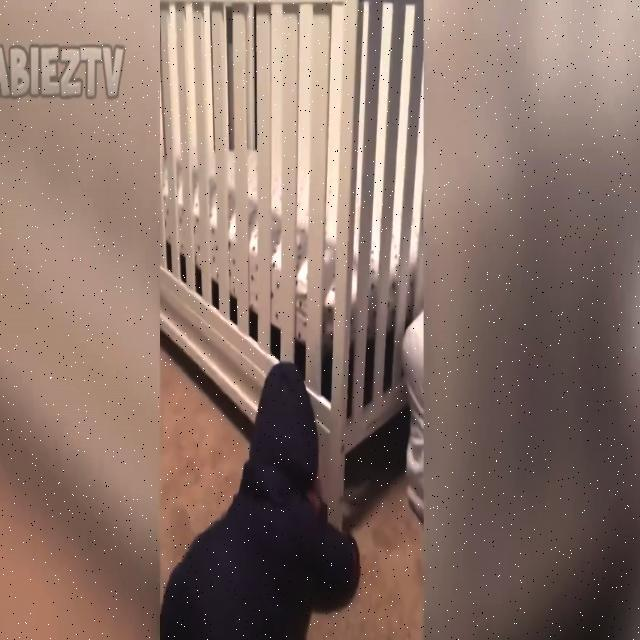child: (162, 360, 363, 640)
